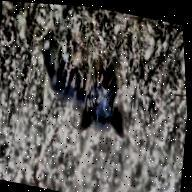boar: (20, 27, 139, 142)
